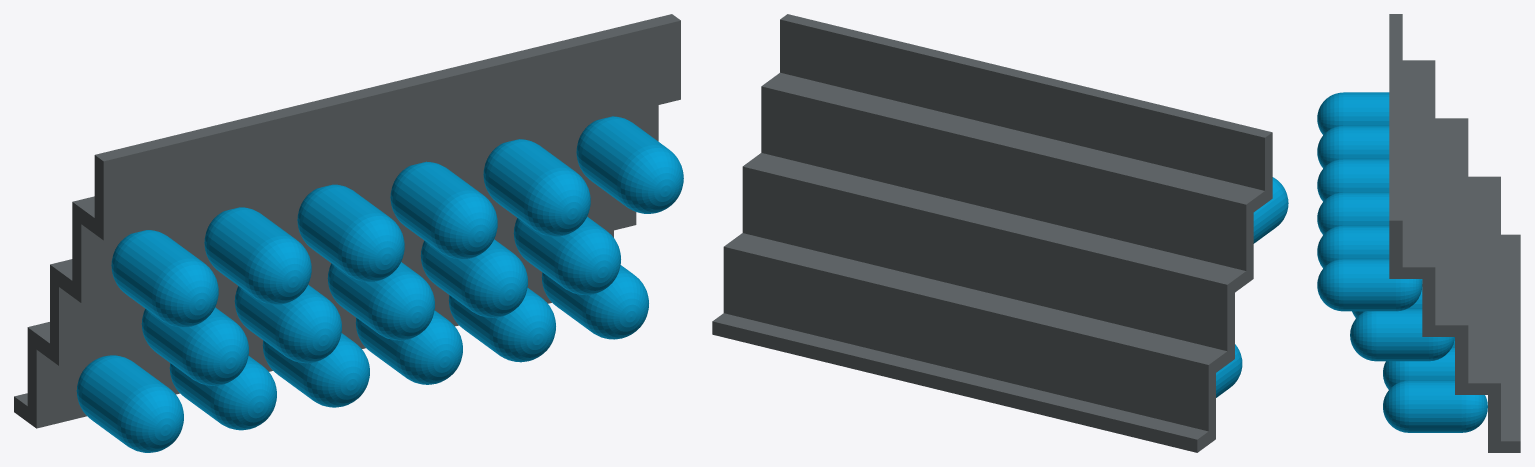
File: tinker.obj
3 views of the same model, side by side, from view 1: azimuth 30°, elevation 25°; view 2: azimuth 150°, elevation 25°; view 3: azimuth 270°, elevation 25° (orthographic). The views are drawn at different scales.
Parts seen in each view (by area): view 1: group_0_40919, group_0_6383466; view 2: group_0_6383466, group_0_40919; view 3: group_0_6383466, group_0_40919.
Part boxes in pixels (box(x1,y1,x2,y2)): group_0_40919: box(76, 116, 683, 452); group_0_6383466: box(14, 14, 680, 428); group_0_6383466: box(712, 14, 1272, 452); group_0_40919: box(1216, 177, 1288, 397); group_0_6383466: box(1389, 14, 1520, 452); group_0_40919: box(1317, 92, 1487, 432).
Bounding box in the file's own units: 149 × 78 × 62.
